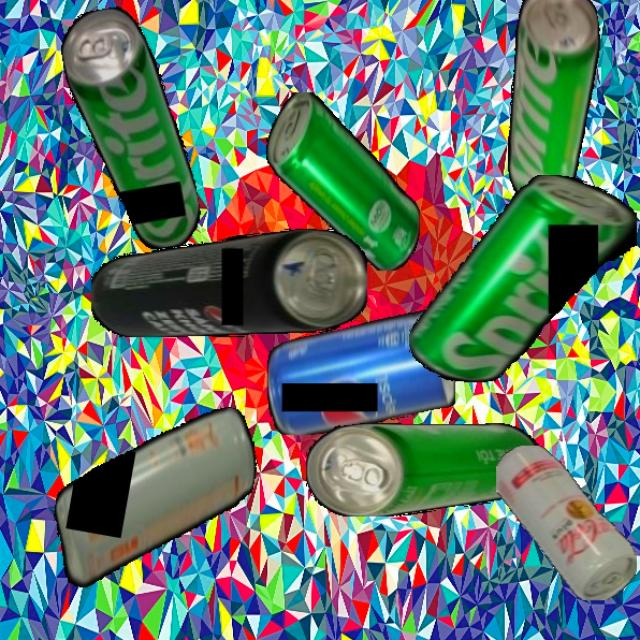debris: (43, 381, 265, 613), (409, 174, 637, 382), (56, 0, 205, 259), (479, 0, 628, 213), (90, 229, 367, 337), (265, 91, 420, 271), (266, 308, 456, 435), (306, 422, 539, 517), (496, 445, 637, 600)
